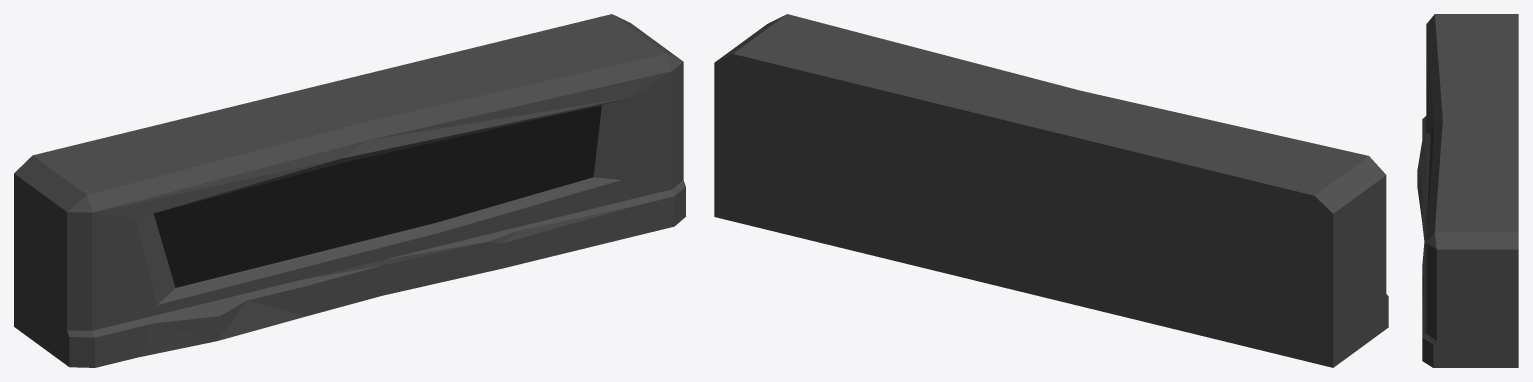
File: Wall_Edging.fbx
The picture shows the model from 3 angles, left to right: view 1: azimuth 30°, elevation 25°; view 2: azimuth 150°, elevation 25°; view 3: azimuth 270°, elevation 25°; orthographic projection. The views are drawn at different scales.
Parts seen in each view (by area): view 1: Wall_Edging; view 2: Wall_Edging; view 3: Wall_Edging.
Part boxes in pixels (x1,y1,x2,y2): Wall_Edging: (14,14,685,367); Wall_Edging: (714,14,1388,367); Wall_Edging: (1417,14,1518,367).
Bounding box in the file's own units: 851 × 220 × 157.
Materials: 1 (1 with a texture image).
